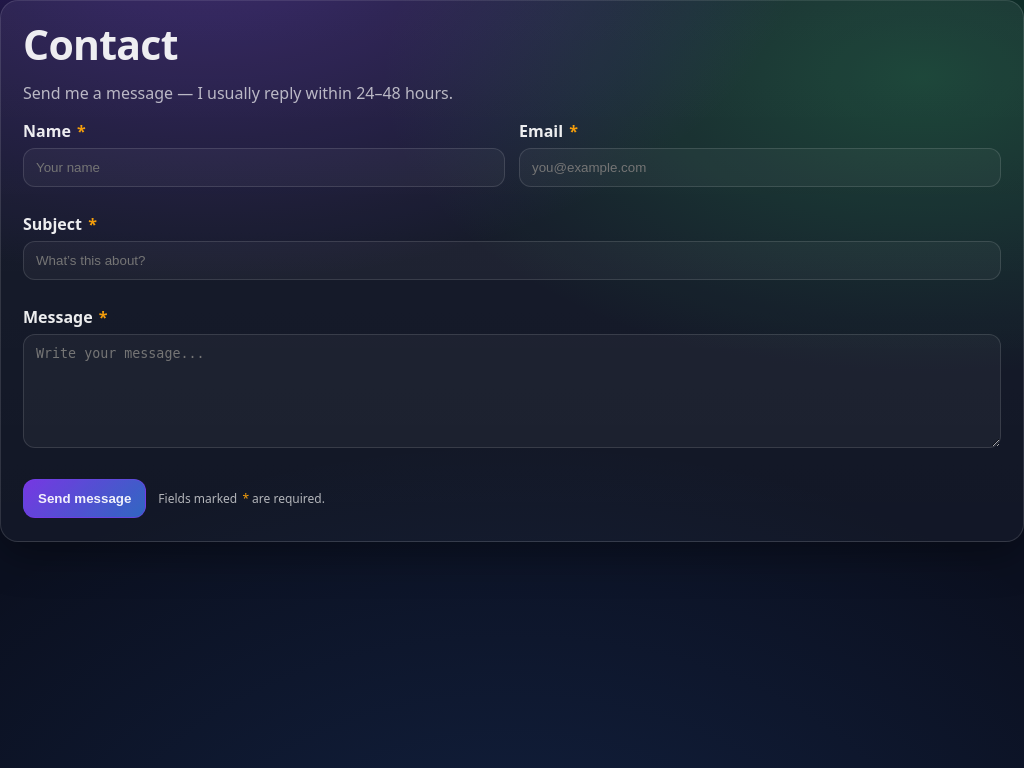
Test: Contact page (form validation) › shows validation errors when submitting empty form
Click the button "Send message" at x=85, y=498, box [23,479,146,518]
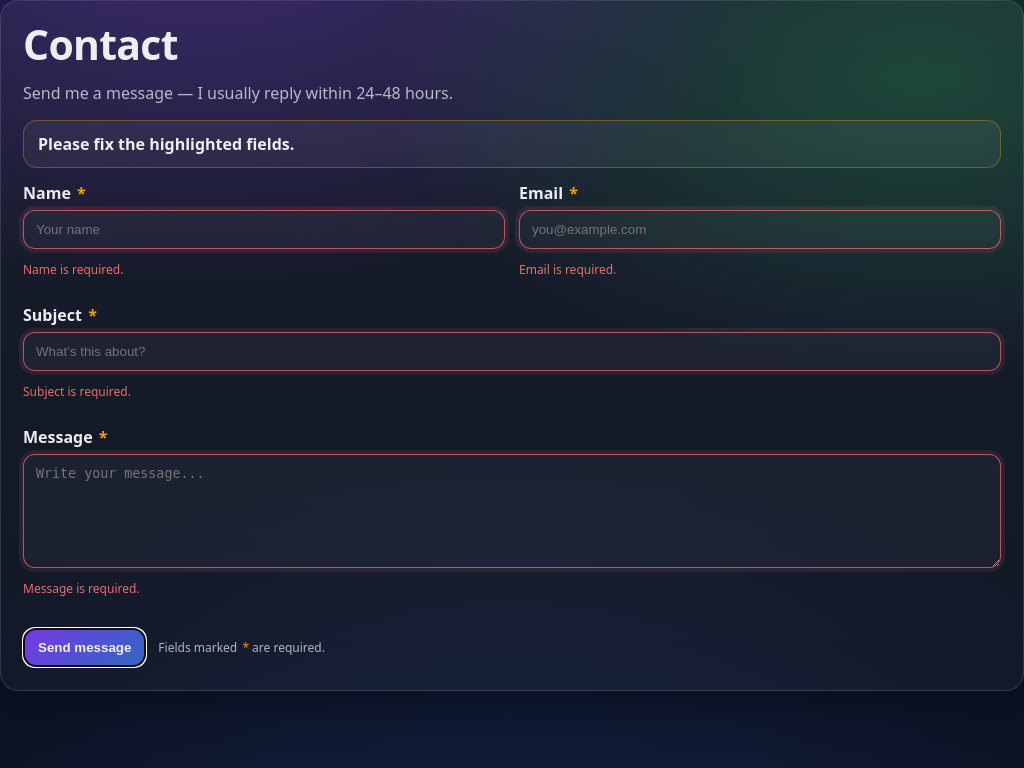
Now the text "Please fix the highlighted fields." is shown, box [23,120,1001,168]
Now the text "Name is required." is shown, box [23,261,123,278]
Now the text "Email is required." is shown, box [519,261,616,278]
